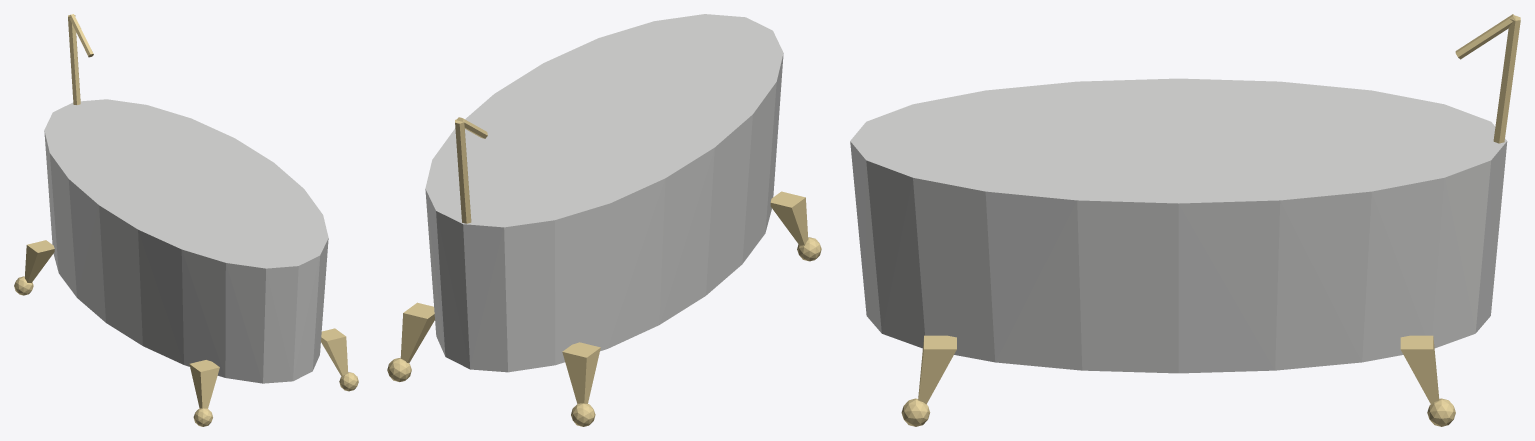
File: clawfoot_tub.glb
3 views of the same model, side by side, from view 1: azimuth 30°, elevation 25°; view 2: azimuth 150°, elevation 25°; view 3: azimuth 270°, elevation 25° (orthographic). The views are drawn at different scales.
Parts seen in each view (by area): view 1: clawfoot_tub_porcelain, clawfoot_tub_brass; view 2: clawfoot_tub_porcelain, clawfoot_tub_brass; view 3: clawfoot_tub_porcelain, clawfoot_tub_brass.
Part boxes in pixels (bbox=[...]): clawfoot_tub_porcelain: bbox=[44, 99, 328, 383]; clawfoot_tub_brass: bbox=[14, 14, 358, 426]; clawfoot_tub_porcelain: bbox=[425, 14, 783, 372]; clawfoot_tub_brass: bbox=[387, 117, 821, 426]; clawfoot_tub_porcelain: bbox=[850, 78, 1507, 373]; clawfoot_tub_brass: bbox=[901, 14, 1520, 426].
Bounding box in the file's own units: 0.72 × 0.9635 × 1.63.
